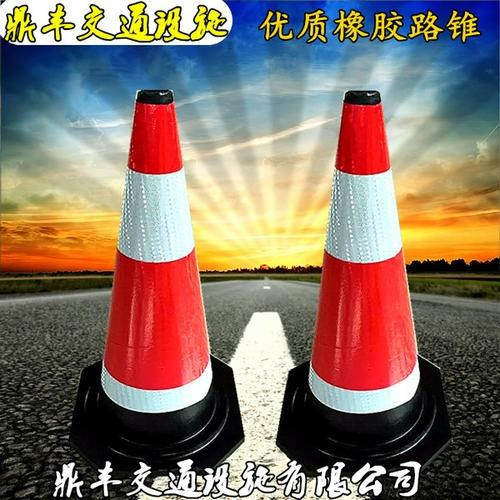cone_barrel: (277, 91, 440, 470), (70, 93, 236, 465)
